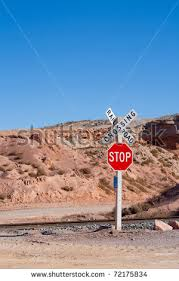stop_sign: (107, 143, 133, 171)
